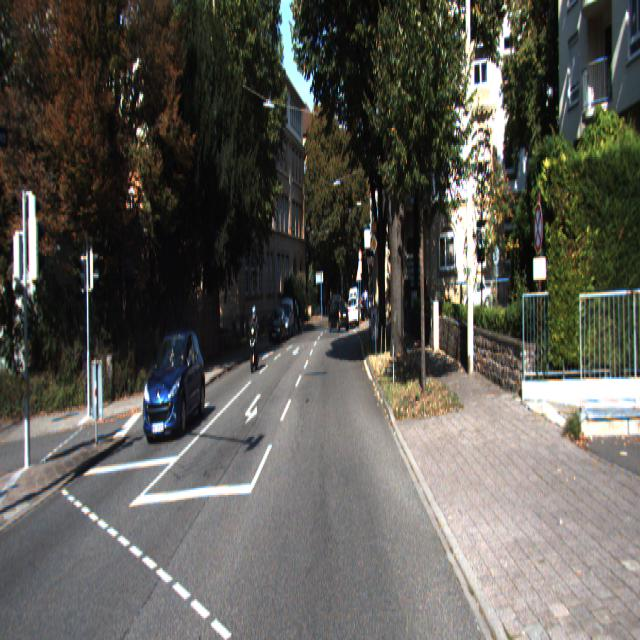Car: (140, 324, 206, 444), (246, 302, 261, 370), (328, 295, 350, 331), (268, 305, 286, 345), (347, 294, 358, 328)
